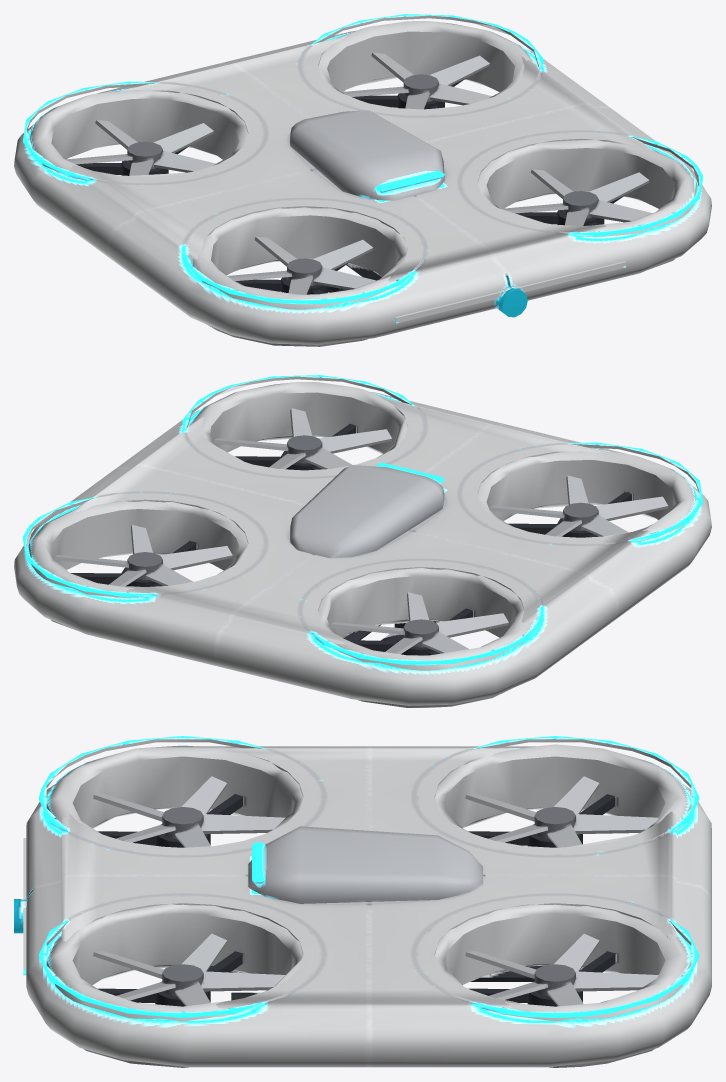
File: FlyingDrone_LOD1.glb
3 renders of one model, top to bottom at view 1: azimuth 30°, elevation 25°; view 2: azimuth 150°, elevation 25°; view 3: azimuth 270°, elevation 25°, orthographic. The views are drawn at different scales.
Parts seen in each view (by area): view 1: FlyingDrone_LOD1; view 2: FlyingDrone_LOD1; view 3: FlyingDrone_LOD1.
Part boxes in pixels (bbox=[...]): FlyingDrone_LOD1: bbox=[14, 14, 711, 346]; FlyingDrone_LOD1: bbox=[14, 375, 711, 707]; FlyingDrone_LOD1: bbox=[14, 736, 711, 1067].
Bounding box in the file's own units: 0.3979 × 0.0792 × 0.4049.
Materials: 1 (1 with a texture image).
